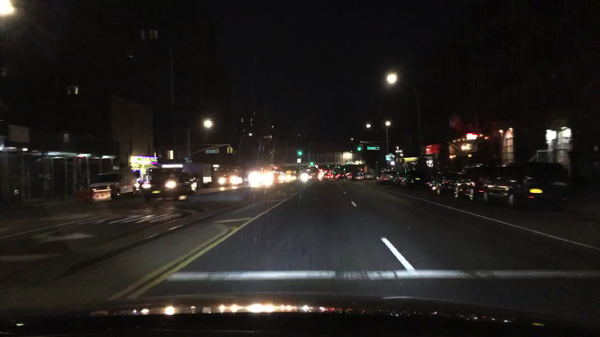car: (482, 162, 572, 211), (451, 163, 500, 200), (141, 173, 198, 201), (425, 169, 463, 195), (398, 169, 428, 188), (217, 168, 248, 186), (245, 169, 274, 188), (375, 169, 395, 183), (389, 170, 405, 185), (277, 173, 298, 183), (300, 169, 316, 182), (360, 171, 374, 181), (350, 173, 362, 181), (343, 173, 352, 181), (334, 174, 345, 179), (325, 173, 334, 179)
traffic light: (297, 147, 302, 156), (309, 158, 314, 167), (356, 143, 360, 151), (229, 146, 233, 153), (226, 146, 229, 154)
traffic sign: (204, 149, 219, 154), (367, 144, 379, 150), (394, 149, 403, 154), (185, 158, 192, 163)
truck: (89, 169, 140, 199), (181, 165, 217, 187)
